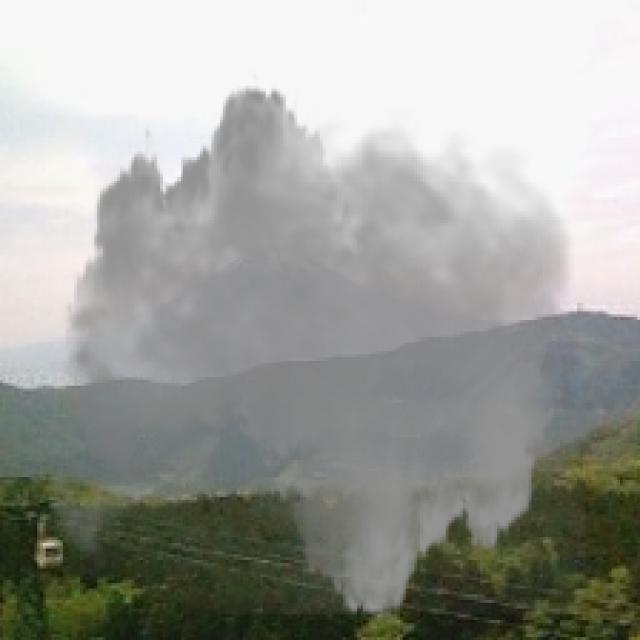Smoke: (28, 68, 586, 634)
